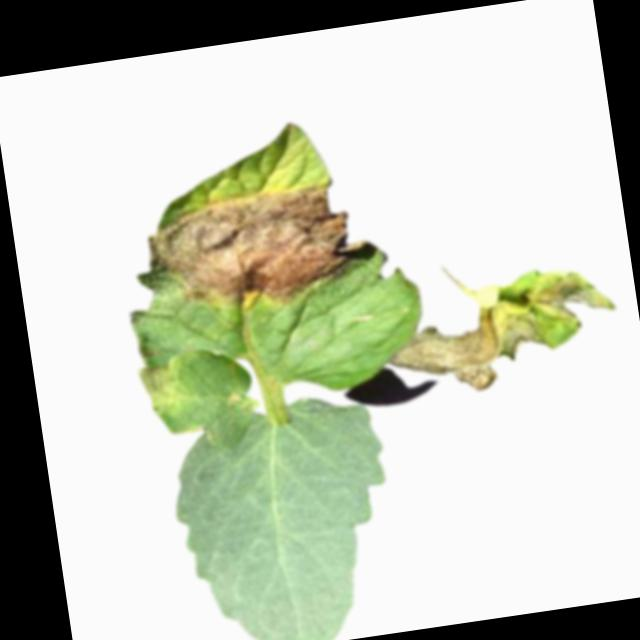Late_blight: (141, 173, 383, 323), (379, 258, 623, 402), (135, 351, 195, 421)
